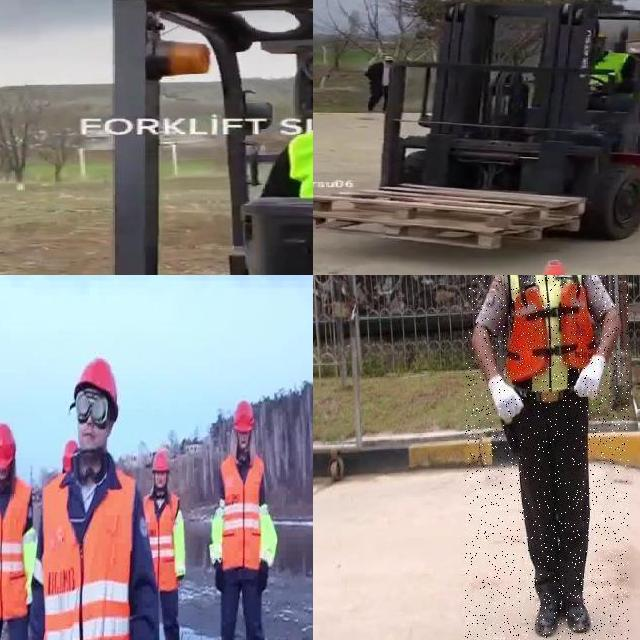BOOTS: (533, 595, 561, 639), (563, 601, 591, 638)
GLASS: (75, 390, 112, 431)
GLOVE: (487, 375, 526, 425), (573, 355, 608, 399)
HELMET: (76, 360, 118, 408), (0, 423, 16, 471), (234, 402, 255, 432), (62, 441, 78, 474), (149, 453, 171, 473)
VEST: (41, 466, 136, 640), (507, 275, 596, 404), (221, 450, 267, 569), (0, 472, 32, 619), (142, 490, 182, 592)
